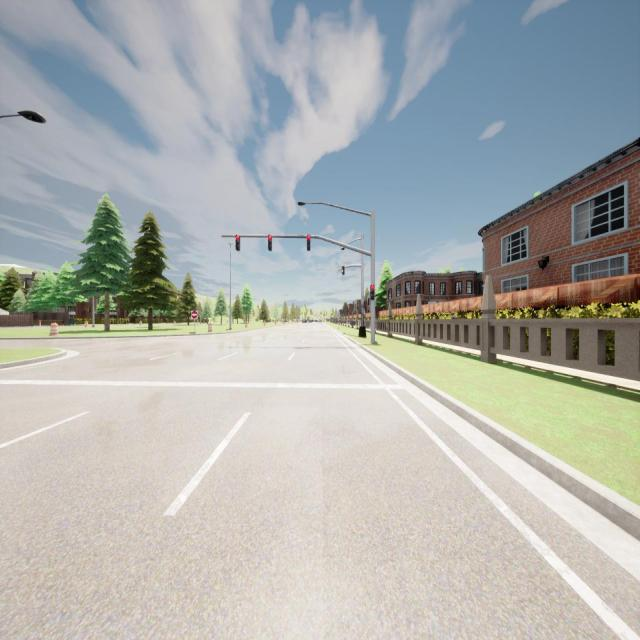Traffic_Signs: (191, 310, 198, 320)
Vehicle: (301, 318, 307, 323), (318, 320, 323, 324), (308, 319, 312, 323), (314, 320, 318, 322)
traffic_light: (370, 284, 375, 300), (236, 235, 240, 251), (268, 235, 272, 251), (307, 235, 310, 251), (342, 266, 344, 276)
